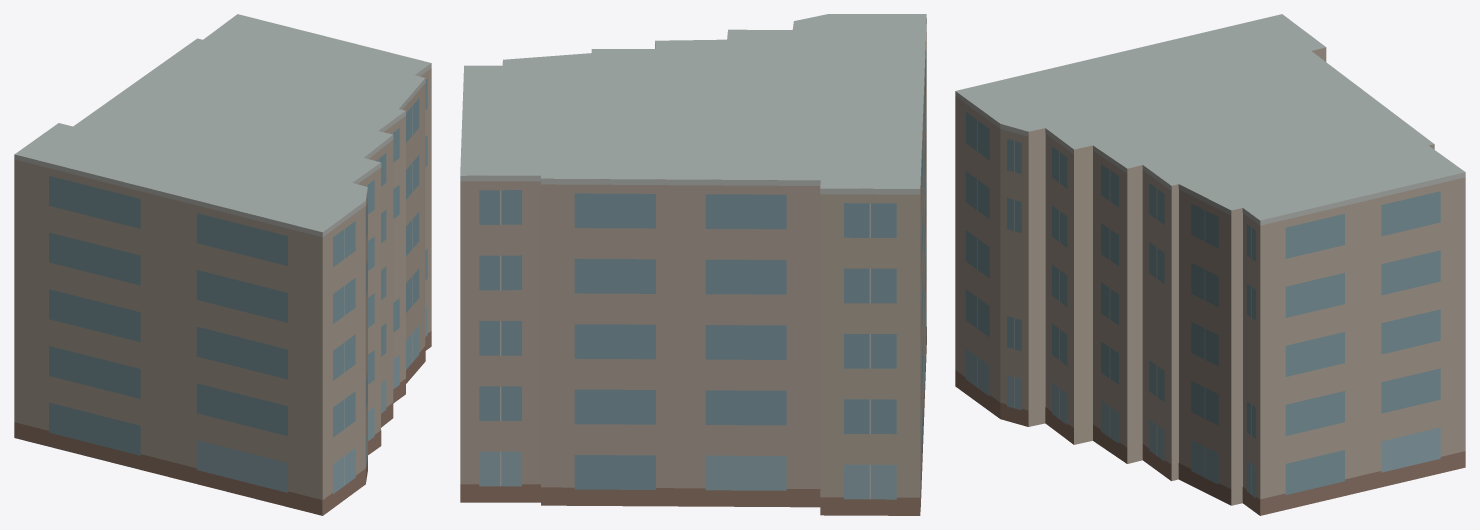
The model's file is survey-upis-32524227.glb.
3 renders of one model, left to right at view 1: azimuth 30°, elevation 25°; view 2: azimuth 150°, elevation 25°; view 3: azimuth 270°, elevation 25°, orthographic. The views are drawn at different scales.
Visible parts, largest first — view 1: survey-upis-32524227.tmp; view 2: survey-upis-32524227.tmp; view 3: survey-upis-32524227.tmp.
Boxes of the visible parts, x1,y1,x2,y2 form: survey-upis-32524227.tmp: [14, 14, 431, 515]; survey-upis-32524227.tmp: [460, 14, 926, 515]; survey-upis-32524227.tmp: [955, 14, 1465, 515].
Bounding box in the file's own units: 21.09 × 14.05 × 22.02.
